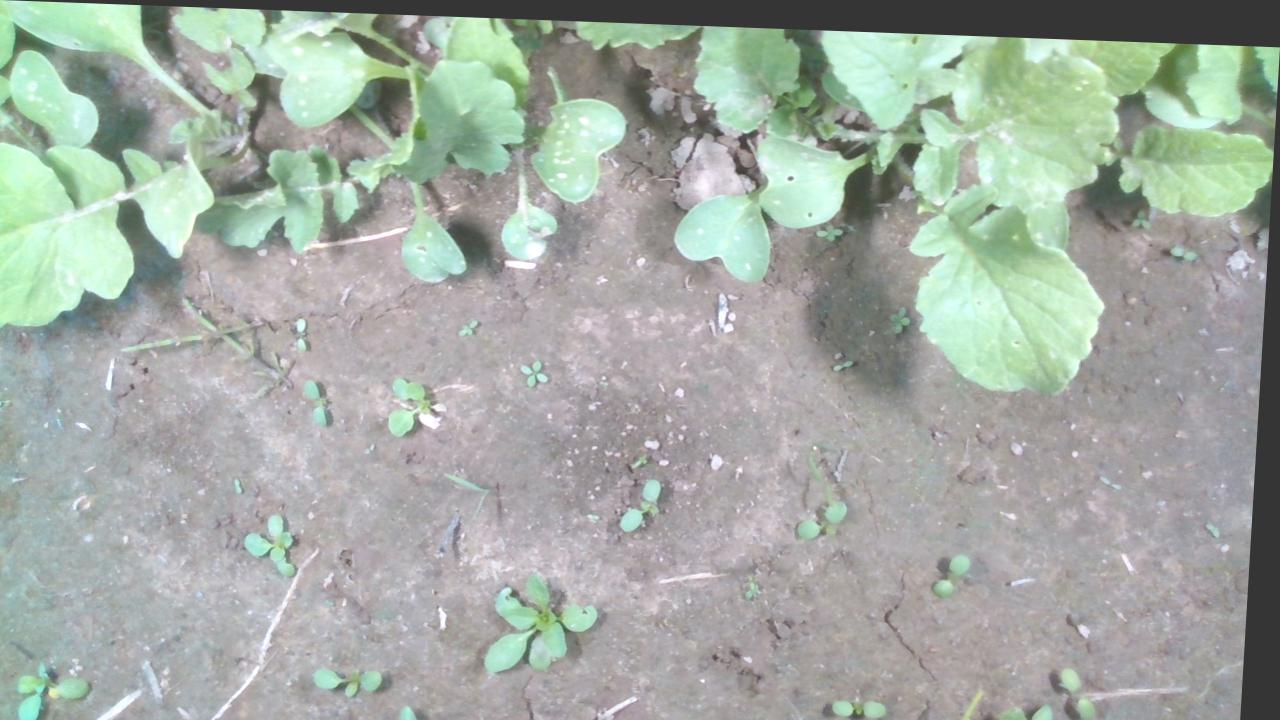weed: (623, 470, 667, 527), (317, 661, 390, 692), (1064, 658, 1107, 710), (800, 493, 853, 532), (938, 544, 978, 592), (304, 373, 334, 424), (836, 691, 896, 711), (521, 354, 553, 385), (296, 312, 313, 351), (892, 296, 913, 327), (816, 215, 845, 235), (1171, 235, 1201, 251), (460, 313, 481, 333), (1133, 199, 1152, 220), (634, 445, 653, 465), (834, 350, 858, 362), (238, 475, 249, 492)
